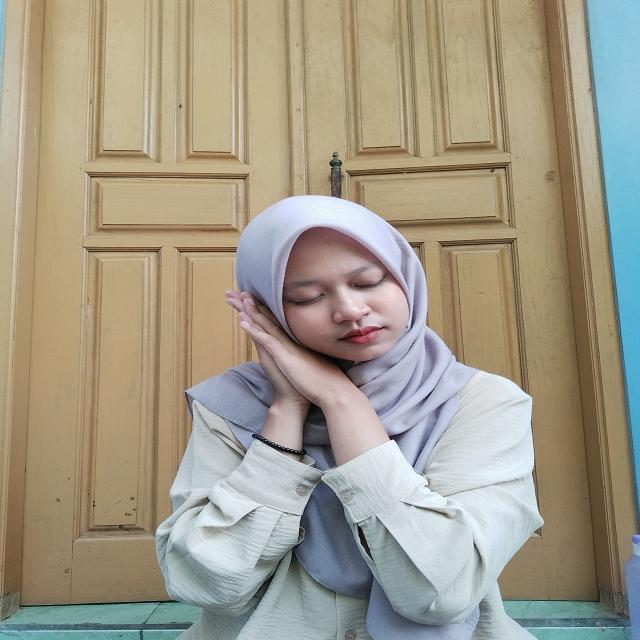tidur: (223, 289, 390, 465)
